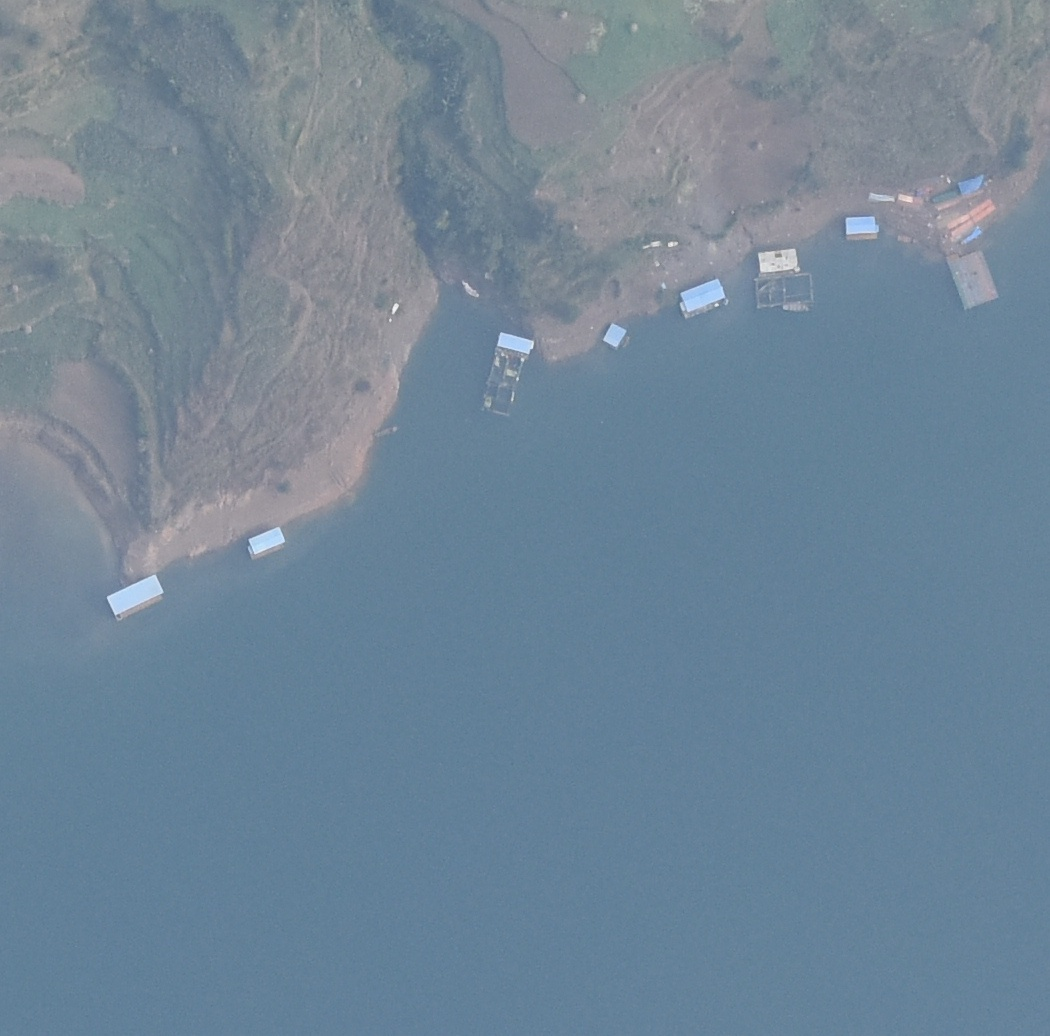cultivation-mesh-cage: (485, 349, 526, 419), (754, 273, 816, 307)
prefabricated-house: (946, 247, 999, 307), (105, 575, 165, 621), (681, 278, 724, 312), (757, 248, 799, 273), (247, 528, 285, 553), (497, 332, 535, 355), (845, 215, 878, 235), (602, 322, 626, 347)
ship: (374, 425, 399, 439), (782, 302, 811, 313)
